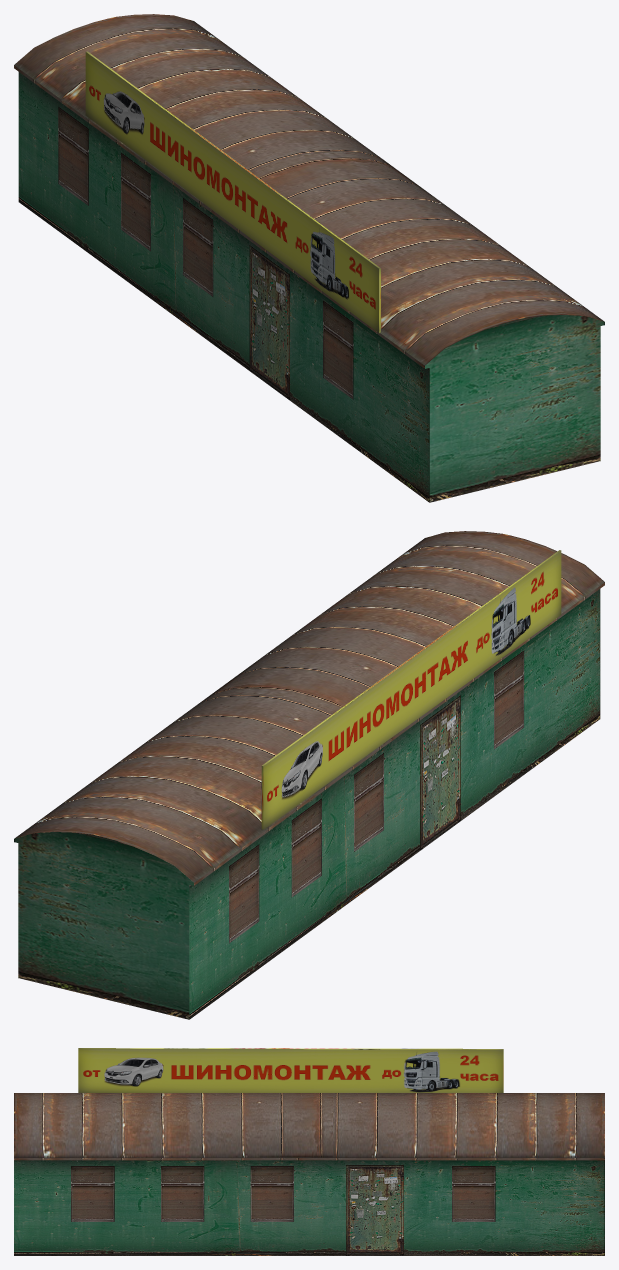
Rendered from e30_kafe_shinomontaz2.FBX.
3 views of the same model, one above another, from view 1: azimuth 30°, elevation 25°; view 2: azimuth 150°, elevation 25°; view 3: azimuth 270°, elevation 25° (orthographic). The views are drawn at different scales.
Visible parts, largest first — view 1: e30_kafe_shinomontaz2; view 2: e30_kafe_shinomontaz2; view 3: e30_kafe_shinomontaz2.
Part boxes in pixels (x1,y1,x2,y2): e30_kafe_shinomontaz2: (14, 14, 604, 502); e30_kafe_shinomontaz2: (14, 531, 604, 1019); e30_kafe_shinomontaz2: (14, 1048, 604, 1255).
Size of the model in its own units: 302 by 1186 by 323.
